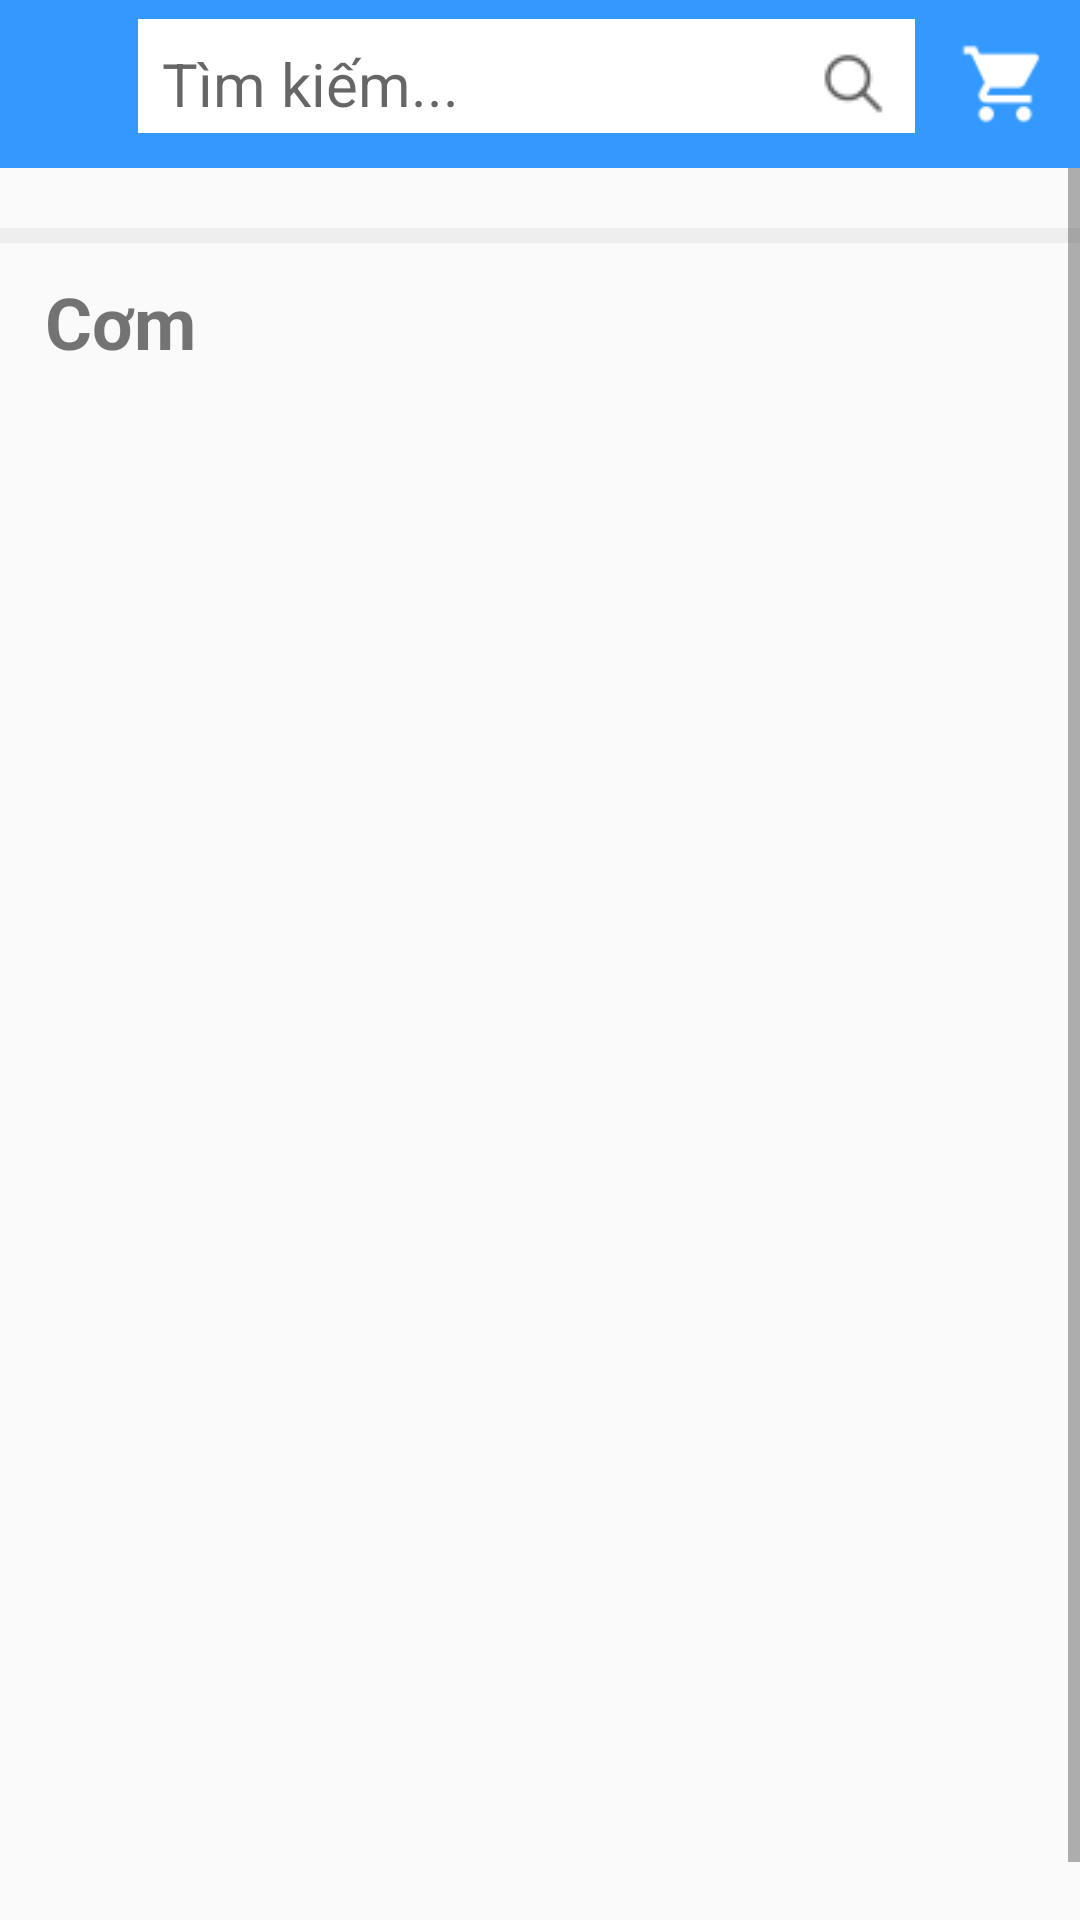

Where to tap for icons on this 1080 x 1920 app screen, as [x,y]:
cart: [1001,84]
